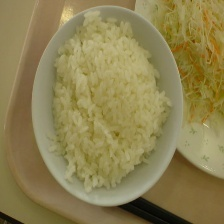rice: (50, 11, 173, 188)
